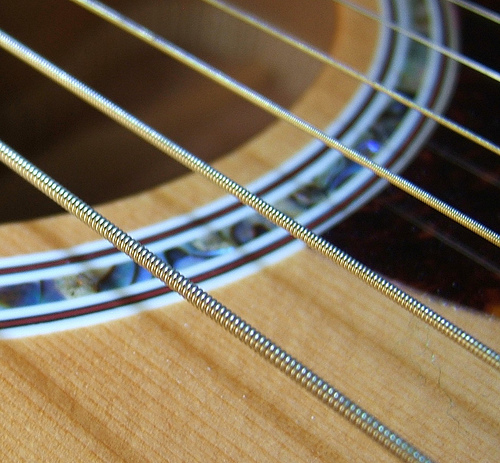guitar: (1, 1, 500, 463)
